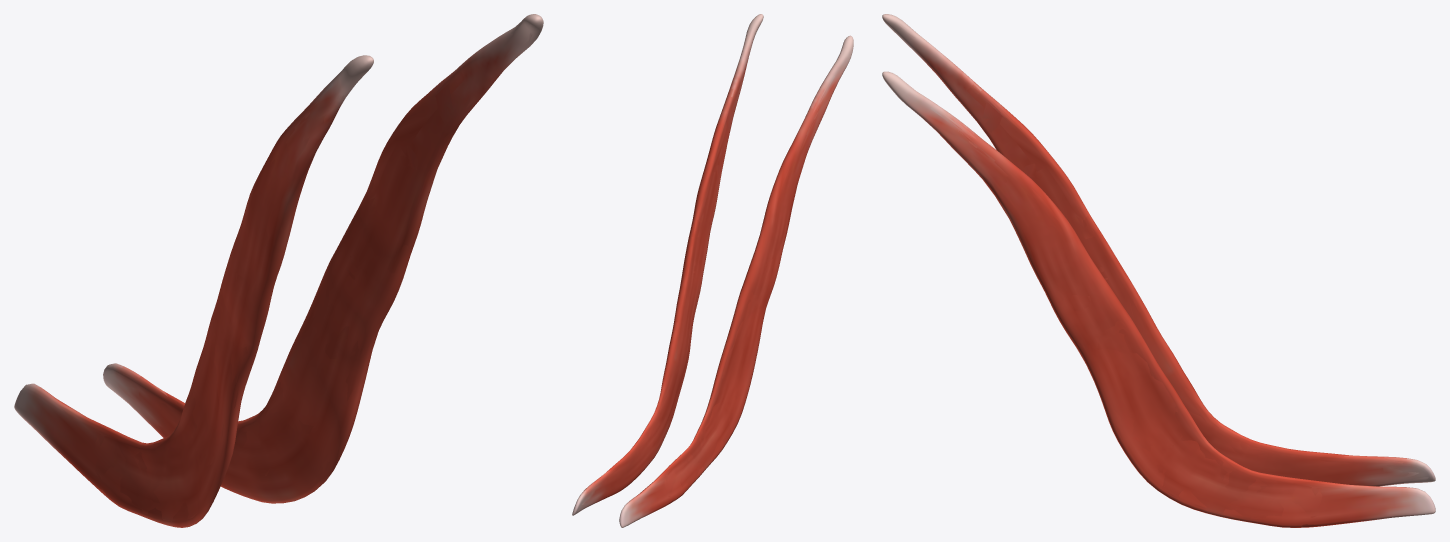
File: Longissimus Capitis.fbx
3 views of the same model, side by side, from view 1: azimuth 30°, elevation 25°; view 2: azimuth 150°, elevation 25°; view 3: azimuth 270°, elevation 25° (orthographic). The views are drawn at different scales.
Visible parts, largest first — view 1: Longissimus Capitis, Longissimus Capitis low; view 2: Longissimus Capitis, Longissimus Capitis low; view 3: Longissimus Capitis, Longissimus Capitis low.
Boxes of the visible parts, left/top/right/bottom form: Longissimus Capitis: left=14, top=14, right=543, bottom=527; Longissimus Capitis low: left=59, top=22, right=532, bottom=521; Longissimus Capitis: left=572, top=14, right=853, bottom=527; Longissimus Capitis low: left=576, top=25, right=843, bottom=519; Longissimus Capitis: left=882, top=14, right=1435, bottom=527; Longissimus Capitis low: left=891, top=23, right=1429, bottom=526.
Bounding box in the file's own units: 15.39 × 50.94 × 54.55.
Materials: 1 (1 with a texture image).
